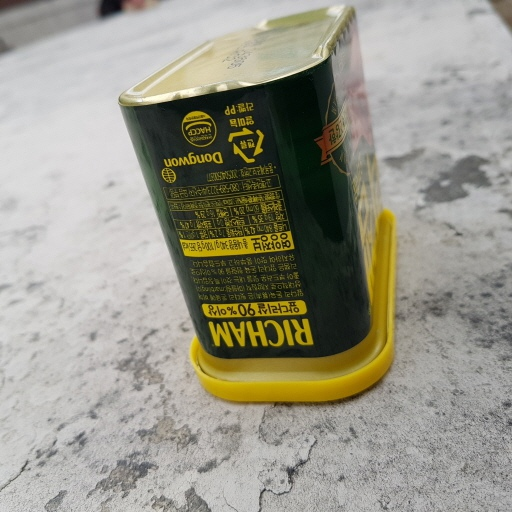Metal_2: (123, 4, 403, 415)
